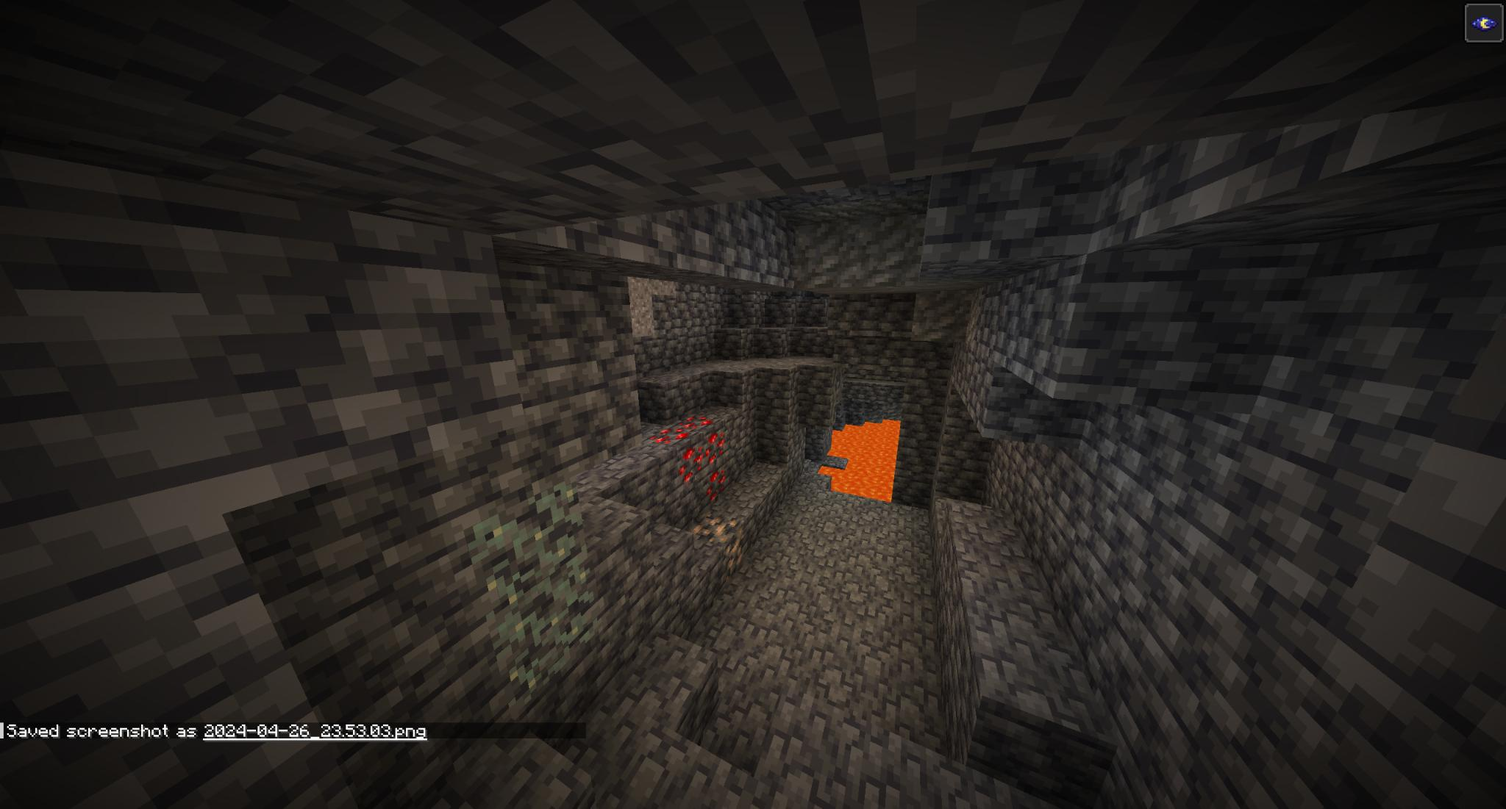iron ore: (693, 506, 748, 565)
redstone ore: (658, 416, 733, 499)
